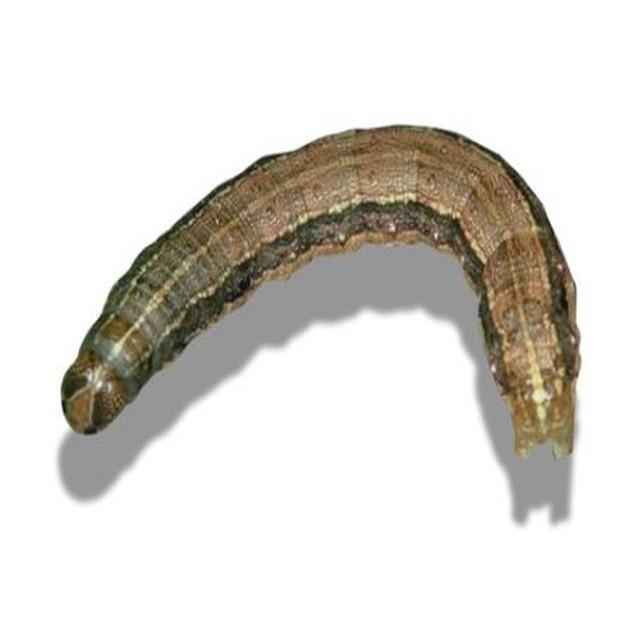gusano_cogollero: (55, 123, 582, 459)
